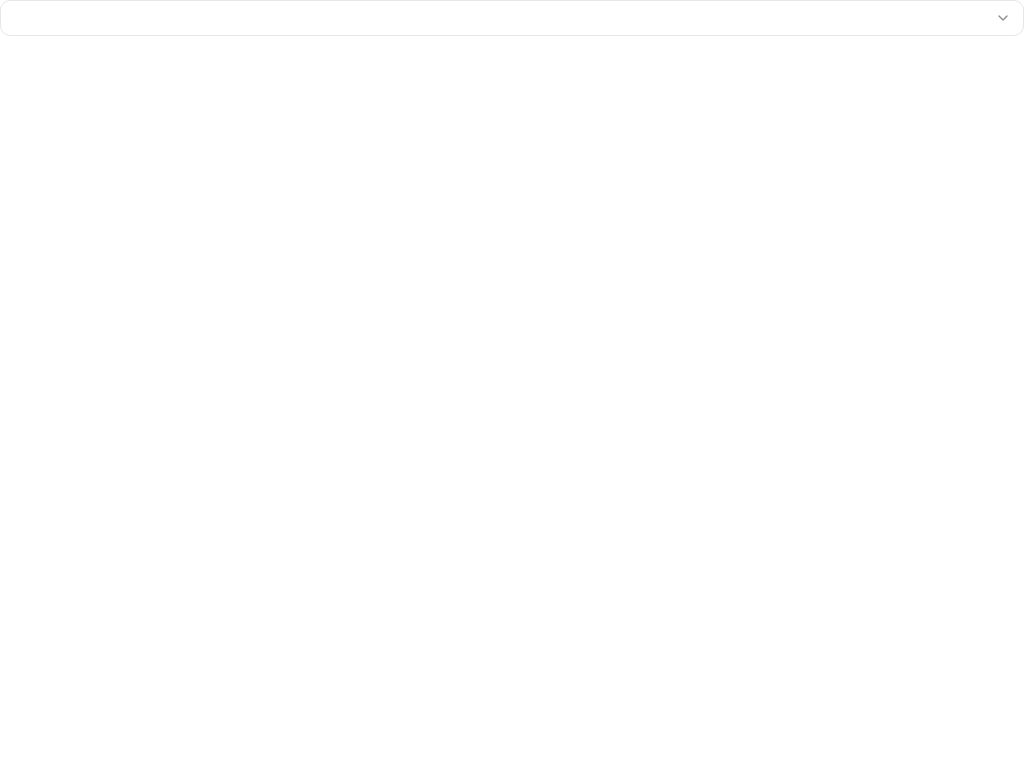
Test: ForeignKeyWidget › shows a loading state while relations are fetched
Click the button.
click(1003, 18)  # box [0,0,1023,36]
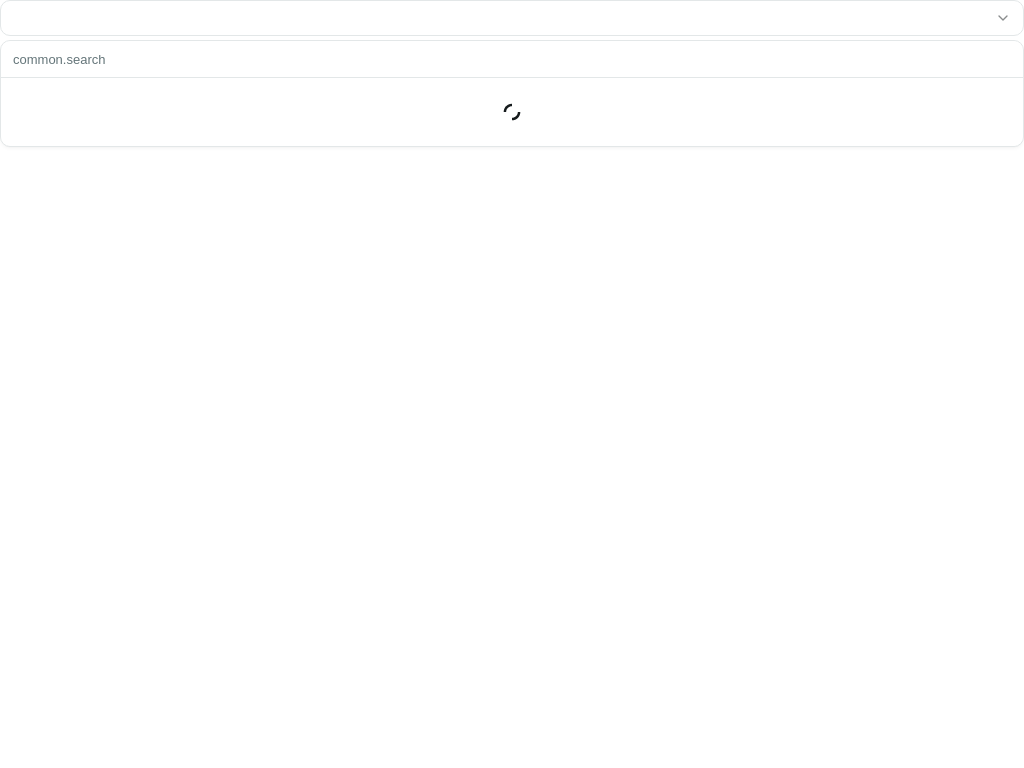
Result: the message is shown at [502,102,522,122]
